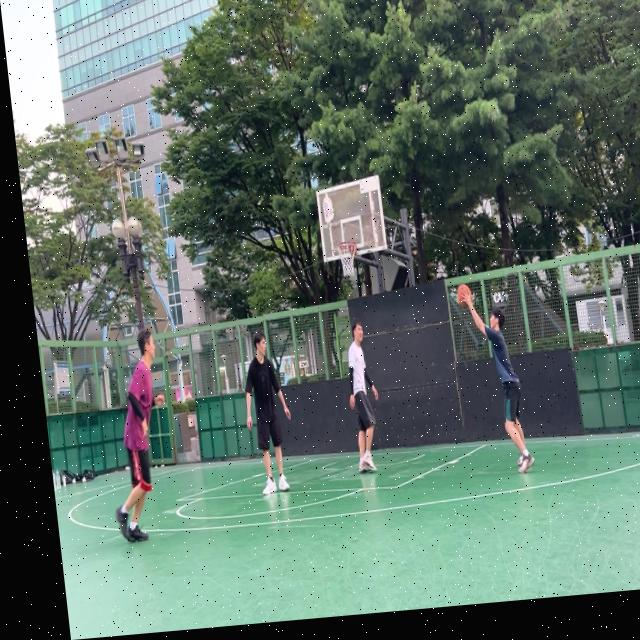basketball: (456, 284, 473, 308)
hoop: (336, 240, 360, 278)
